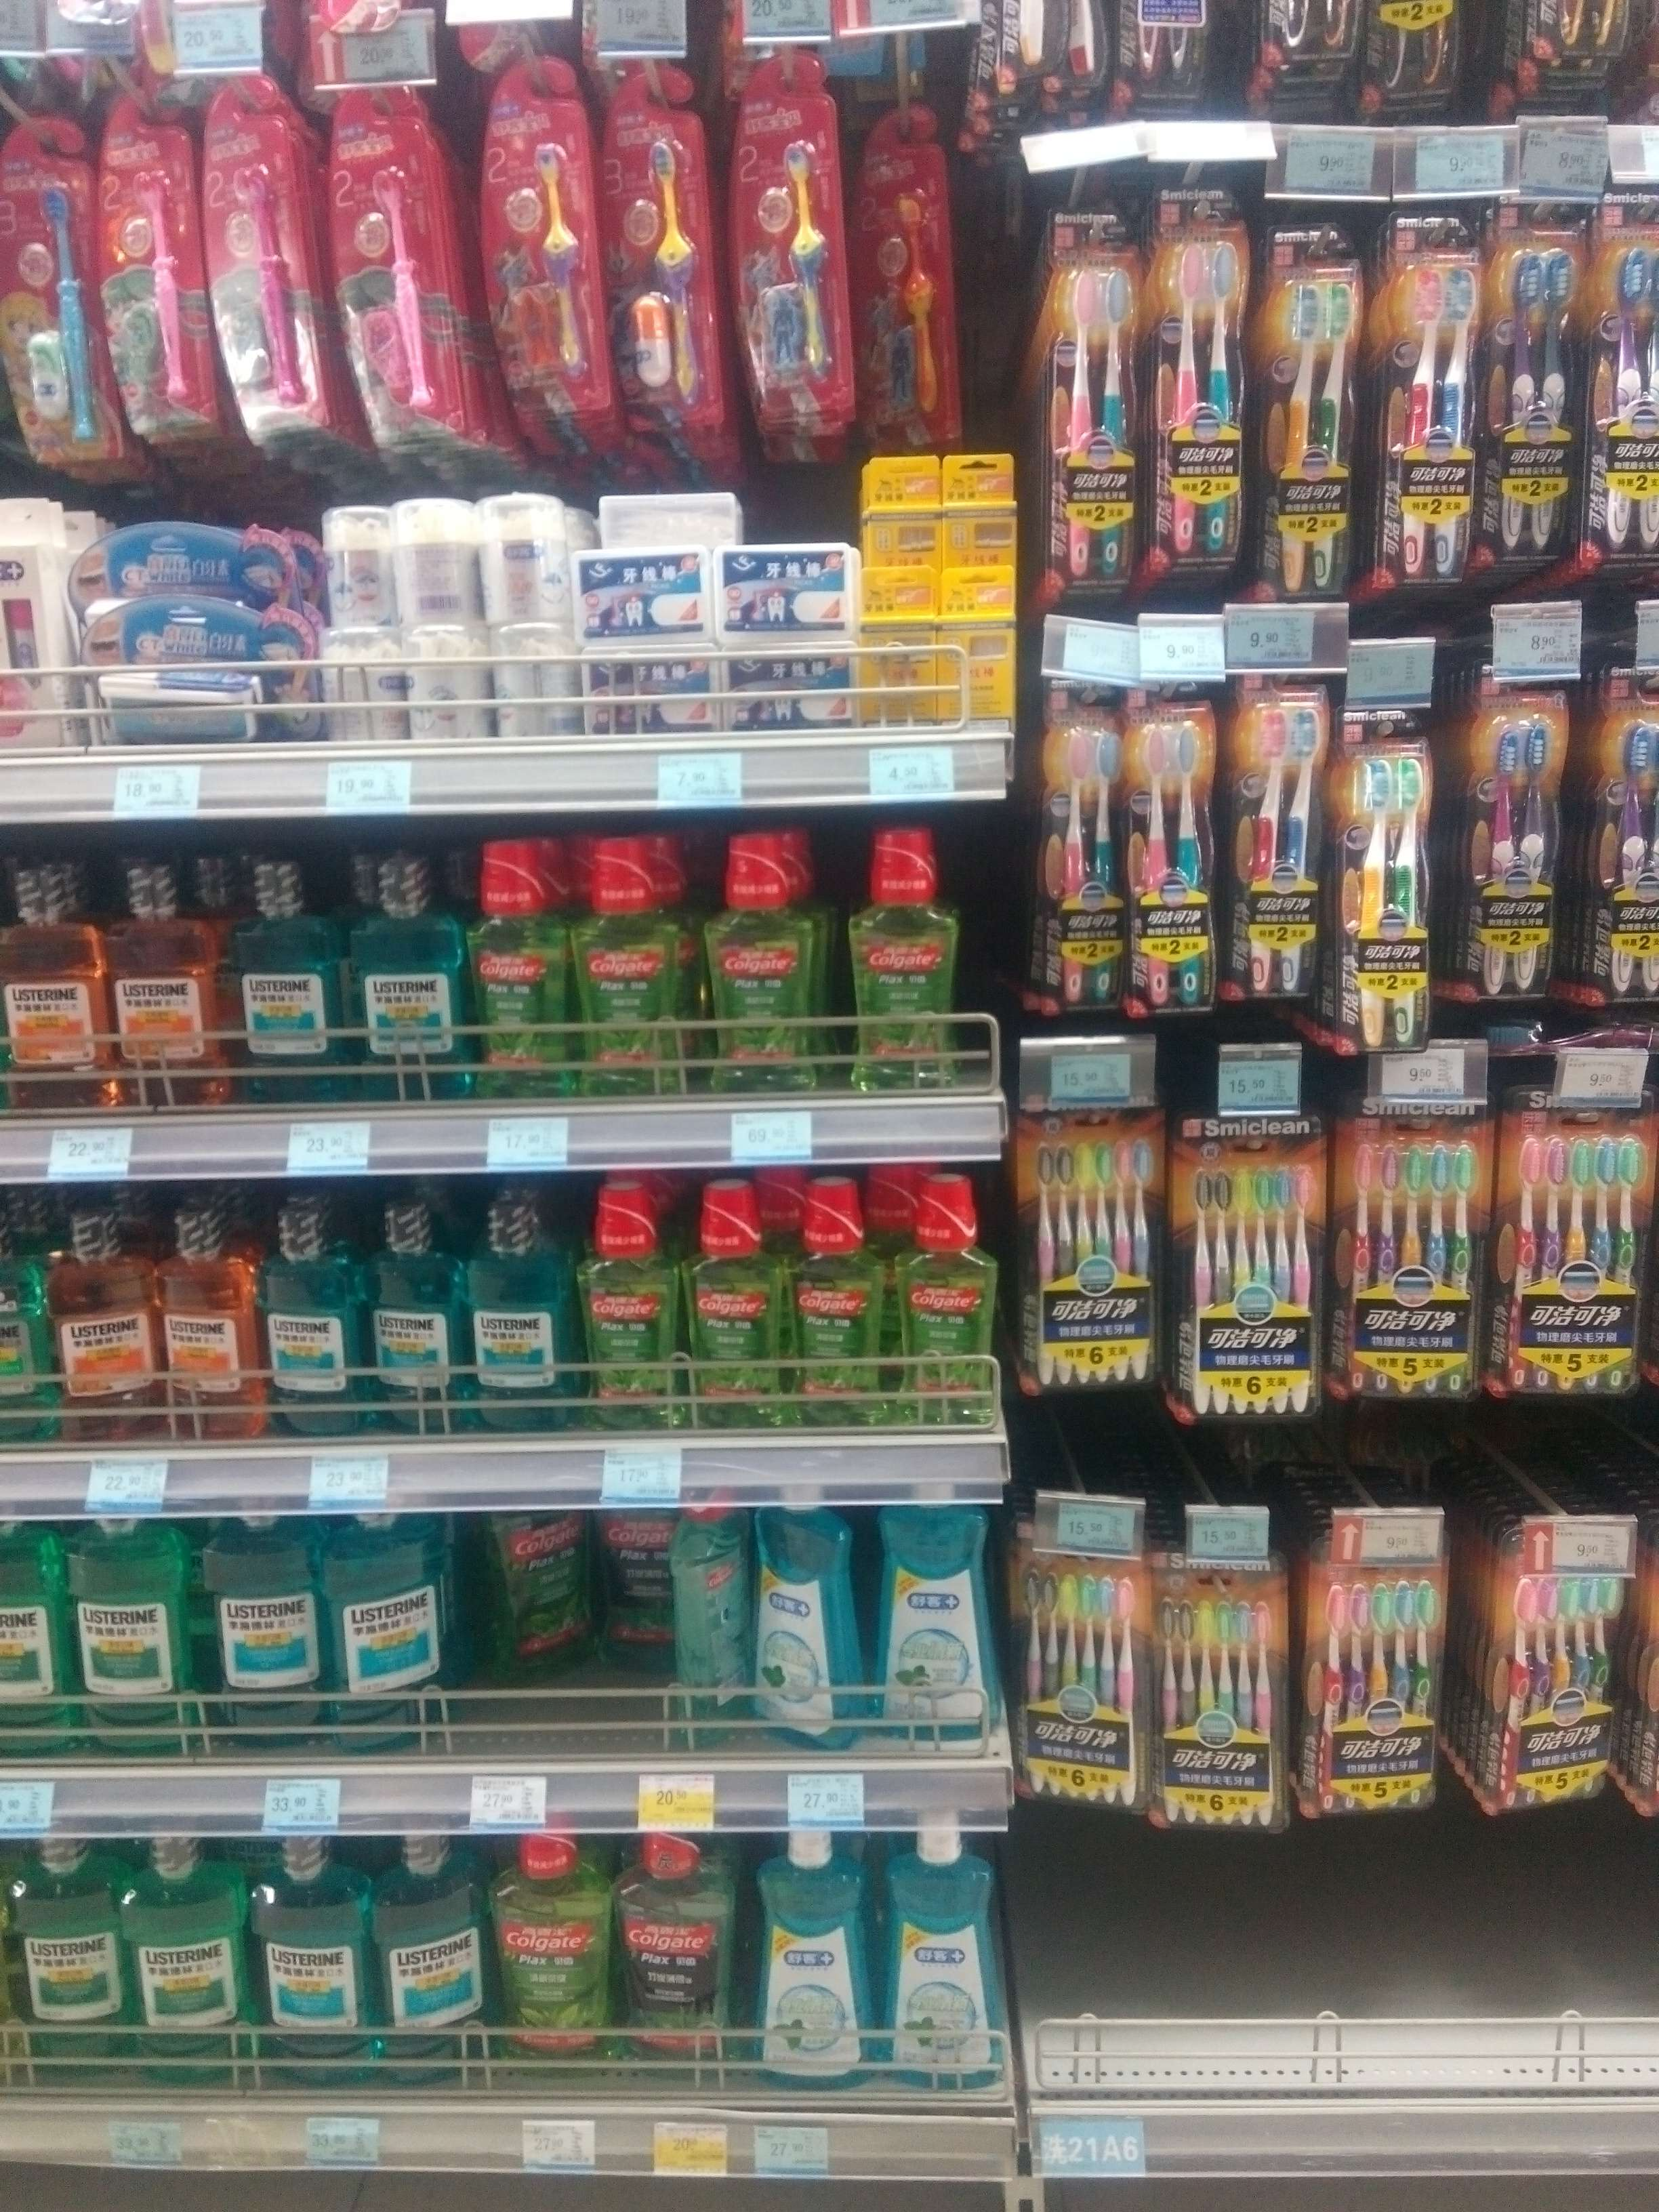Misplacement: (465, 1514, 666, 1763)
